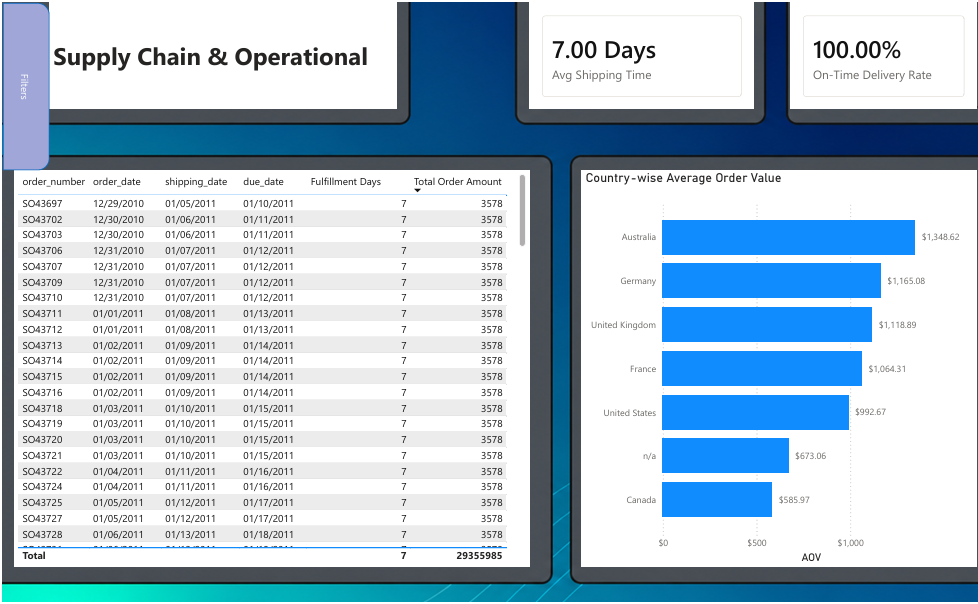

The dashboard page shown, as its layout file describes it:
{"tool":"powerbi","page":{"name":"Supply Chain & Operational","canvas":[1600,690],"ordinal":3},"visuals":[{"type":"shape","title":"Slicer_shpw_box","box":[8.7,97.2,261.1,456.2],"z":0,"group":"g1"},{"type":"group","id":"g1","title":"slicer panel","box":[8.7,97.2,261.1,456.2],"z":1000,"group":"g2"},{"type":"slicer","title":"Slicer_country","fields":{"Values":["gold dim_customers.country"]},"box":[36.8,461.8,195.3,72.3],"z":1000,"group":"g1"},{"type":"clusteredBarChart","title":"Country-wise Average Order Value","fields":{"Y":["_All Measures.AOV"],"Category":["gold dim_customers.country"]},"box":[1006.2,204.1,579.4,453.6],"z":2000},{"type":"slicer","title":"Slicer_product","fields":{"Values":["gold dim_products.product_line"]},"box":[34.6,364.6,205,84.9],"z":2000,"group":"g1"},{"type":"slicer","title":"Slicer_order_date","fields":{"Values":["gold fact_sales.order_date"]},"box":[28.1,188.4,211.5,91.2],"z":3000,"group":"g1"},{"type":"tableEx","title":"Top 10 Orders by Sales","fields":{"Values":["gold fact_sales.order_number","gold fact_sales.order_date","gold fact_sales.shipping_date","gold fact_sales.due_date","_All Measures.Fulfillment Days","Sum(gold fact_sales.sales_amount)"]},"box":[305.2,204.1,682.5,453.6],"z":3000},{"type":"slicer","title":"Slicer_category","fields":{"Values":["gold dim_products.category"]},"box":[34.6,267.1,205,97.5],"z":4000,"group":"g1"},{"type":"textbox","title":"slicer_text_box","box":[64.8,116.1,146.7,72.4],"z":5000,"group":"g1"},{"type":"shape","box":[0,0,284.6,657.7],"z":10001},{"type":"group","id":"g2","title":"slicers","box":[8.7,97.2,262,456.4],"z":10002},{"type":"cardVisual","fields":{"Data":["Count(gold dim_customers.customer_id)"]},"box":[305.2,33,309.3,154.6],"z":10003},{"type":"cardVisual","fields":{"Data":["_All Measures.Avg Shipping Time"]},"box":[955.3,33,309.3,154.6],"z":10004},{"type":"cardVisual","fields":{"Data":["_All Measures.Total Orders"]},"box":[630.2,33,309.3,154.6],"z":10005},{"type":"cardVisual","fields":{"Data":["_All Measures.On-Time Delivery Rate"]},"box":[1280.4,33,305.2,154.6],"z":10006}]}

Visuals, with their boxes on the page's 1600x690 design canvas (x1, y1, x2, y2). These are canvas units, not pixel positions in the 978x604 screenshot, which may show the page scaled, cropped or inside an application window:
"Slicer_shpw_box" shape: crop(9, 97, 270, 553)
"slicer panel" group: crop(9, 97, 270, 553)
"Slicer_country" slicer: crop(37, 462, 232, 534)
"Country-wise Average Order Value" clusteredBarChart: crop(1006, 204, 1586, 658)
"Slicer_product" slicer: crop(35, 365, 240, 450)
"Slicer_order_date" slicer: crop(28, 188, 240, 280)
"Top 10 Orders by Sales" tableEx: crop(305, 204, 988, 658)
"Slicer_category" slicer: crop(35, 267, 240, 365)
"slicer_text_box" textbox: crop(65, 116, 212, 188)
shape: crop(0, 0, 285, 658)
"slicers" group: crop(9, 97, 271, 554)
cardVisual - Count(gold dim_customers.customer_id): crop(305, 33, 614, 188)
cardVisual - _All Measures.Avg Shipping Time: crop(955, 33, 1265, 188)
cardVisual - _All Measures.Total Orders: crop(630, 33, 940, 188)
cardVisual - _All Measures.On-Time Delivery Rate: crop(1280, 33, 1586, 188)
